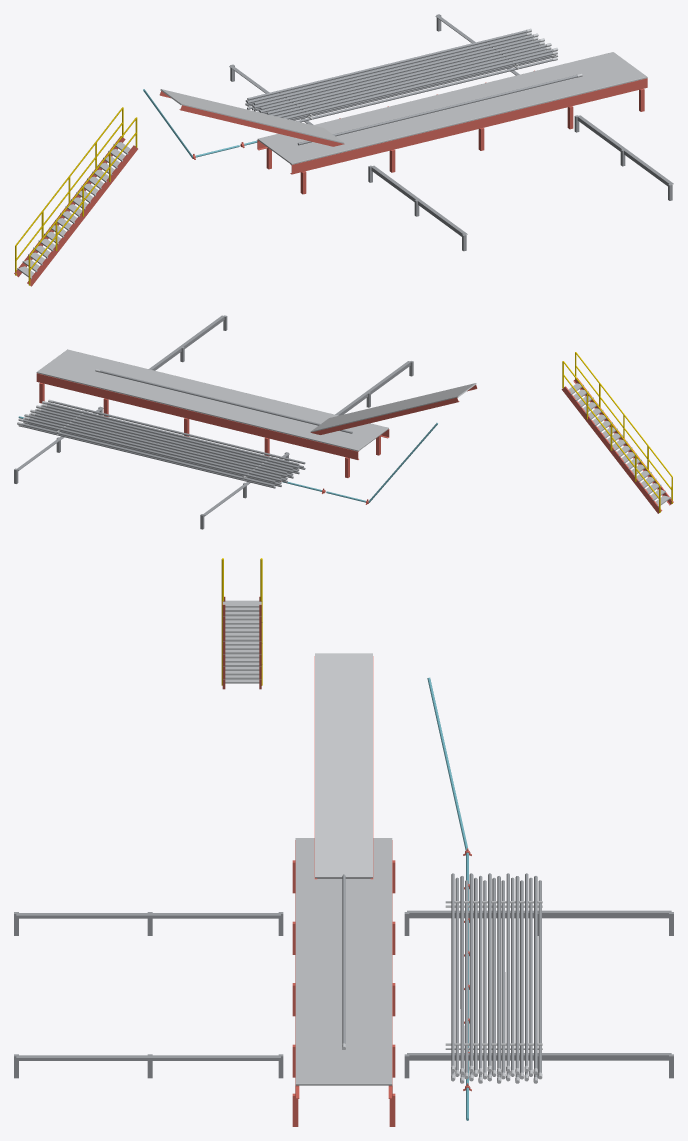
Rendered from sk575_planchada.glb.
3 views of the same model, one above another, from view 1: azimuth 30°, elevation 25°; view 2: azimuth 150°, elevation 25°; view 3: azimuth 270°, elevation 25° (orthographic). The views are drawn at different scales.
Parts seen in each view (by area): view 1: sk575_planchada_grating, sk575_planchada_acero_oscuro, sk575_planchada_rojo, sk575_planchada_amarillo; view 2: sk575_planchada_grating, sk575_planchada_acero_oscuro, sk575_planchada_rojo, sk575_planchada_amarillo, sk575_planchada_azul; view 3: sk575_planchada_grating, sk575_planchada_acero_oscuro, sk575_planchada_rojo, sk575_planchada_azul, sk575_planchada_acero.
Part boxes in pixels (x1,y1,x2,y2): sk575_planchada_grating: (17,42,647,278); sk575_planchada_acero_oscuro: (229,14,673,251); sk575_planchada_rojo: (14,70,647,286); sk575_planchada_amarillo: (15,107,137,285); sk575_planchada_grating: (36,349,670,506); sk575_planchada_acero_oscuro: (14,315,413,529); sk575_planchada_rojo: (36,373,673,513); sk575_planchada_amarillo: (562,352,672,512); sk575_planchada_azul: (18,416,437,502); sk575_planchada_grating: (223,600,542,1085); sk575_planchada_acero_oscuro: (14,873,673,1078); sk575_planchada_rojo: (222,596,471,1126); sk575_planchada_azul: (427,677,468,1120); sk575_planchada_acero: (342,1043,542,1083).
Size of the model in its own units: 21.76 by 4.64 by 13.62.
